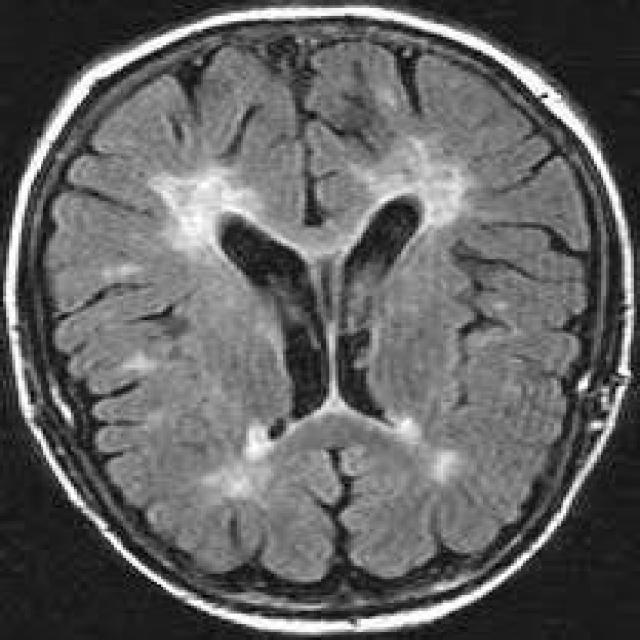notumor: (6, 8, 631, 627)
